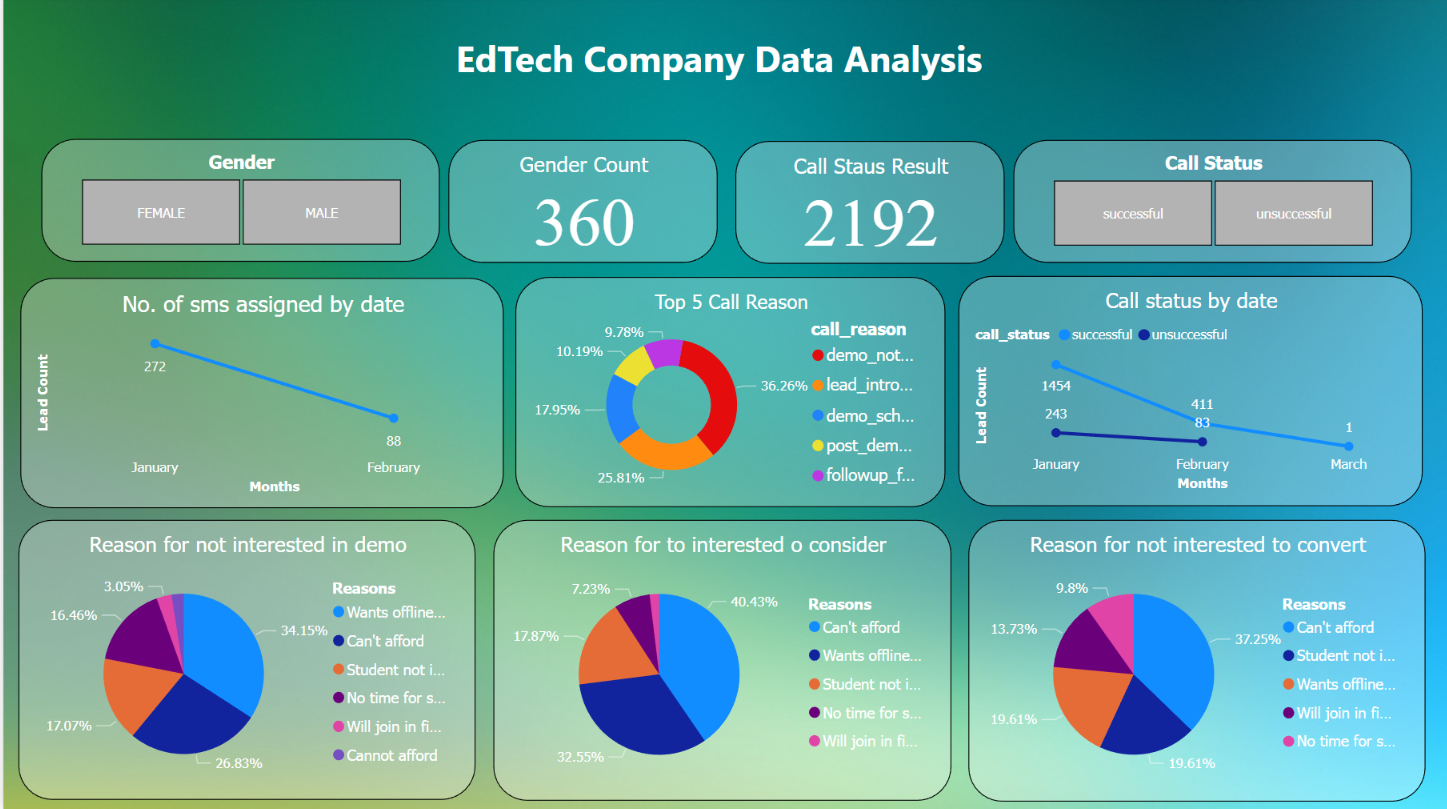

The dashboard page shown, as its layout file describes it:
{"tool":"powerbi","page":{"name":"Assignment sheet 2","canvas":[1280,720],"ordinal":1},"visuals":[{"type":"pieChart","title":"Reason for not interested in demo","fields":{"Category":["leads_reasons_for_no_interest.reasons_for_not_interested_in_demo"],"Y":["CountNonNull(leads_reasons_for_no_interest.lead_id)"]},"box":[13.3,463.2,404.7,248.3],"z":0},{"type":"pieChart","title":"Reason for not interested to convert","fields":{"Y":["CountNonNull(leads_reasons_for_no_interest.lead_id)"],"Category":["leads_reasons_for_no_interest.reasons_for_not_interested_to_convert"]},"box":[854.6,463.2,404.7,249.4],"z":1000},{"type":"pieChart","title":"Reason for to interested o consider","fields":{"Y":["CountNonNull(leads_interaction_details.lead_id)"],"Category":["leads_reasons_for_no_interest.reasons_for_not_interested_to_consider"]},"box":[433.9,463.2,405.6,249],"z":2000},{"type":"lineChart","title":"Call status by date","fields":{"Series":["leads_interaction_details.call_status"],"Y":["CountNonNull(leads_interaction_details.lead_id)"],"Category":["leads_interaction_details.call_done_date.Variation.Date Hierarchy.Month"]},"box":[845.4,247.3,410.9,203.7],"z":3000},{"type":"lineChart","title":"No. of sms assigned by date","fields":{"Y":["CountNonNull(sales_managers_assigned_leads_details.jnr_sm_id)"],"Category":["sales_managers_assigned_leads_details.assigned_date.Variation.Date Hierarchy.Month"]},"box":[15.4,248.9,428.3,204],"z":4000},{"type":"donutChart","title":"Top 5 Call Reason","fields":{"Category":["leads_interaction_details.call_reason"],"Y":["CountNonNull(leads_interaction_details.lead_id)"]},"box":[453.8,248,380.8,203.7],"z":4001},{"type":"card","title":"Call Staus Result","fields":{"Values":["leads_interaction_details.Call_status_result"]},"box":[648.4,127.2,238.2,108.9],"z":4002},{"type":"slicer","title":"Call Status","fields":{"Values":["leads_interaction_details.call_status"]},"box":[894.5,126.3,352.5,108.9],"z":4003},{"type":"slicer","title":"Gender","fields":{"Values":["leads_basic_details.gender"]},"box":[33.7,125.9,352.5,108.9],"z":4004},{"type":"card","title":"Gender Count","fields":{"Values":["leads_basic_details.Total_GenderCount"]},"box":[394.3,126.3,238.2,108.9],"z":4005},{"type":"textbox","box":[292.4,27.6,682.8,54],"z":4006}]}

Visuals, with their boxes in screenshot pixels (x1, y1, x2, y2), scaled from the page's 1280x720 canvas onto the 1447x809 screenshot:
"Reason for not interested in demo" pieChart: {"left": 15, "top": 520, "right": 473, "bottom": 799}
"Reason for not interested to convert" pieChart: {"left": 966, "top": 520, "right": 1424, "bottom": 801}
"Reason for to interested o consider" pieChart: {"left": 491, "top": 520, "right": 949, "bottom": 800}
"Call status by date" lineChart: {"left": 956, "top": 278, "right": 1420, "bottom": 507}
"No. of sms assigned by date" lineChart: {"left": 17, "top": 280, "right": 502, "bottom": 509}
"Top 5 Call Reason" donutChart: {"left": 513, "top": 279, "right": 943, "bottom": 508}
"Call Staus Result" card: {"left": 733, "top": 143, "right": 1002, "bottom": 265}
"Call Status" slicer: {"left": 1011, "top": 142, "right": 1410, "bottom": 264}
"Gender" slicer: {"left": 38, "top": 141, "right": 437, "bottom": 264}
"Gender Count" card: {"left": 446, "top": 142, "right": 715, "bottom": 264}
textbox: {"left": 331, "top": 31, "right": 1102, "bottom": 92}
